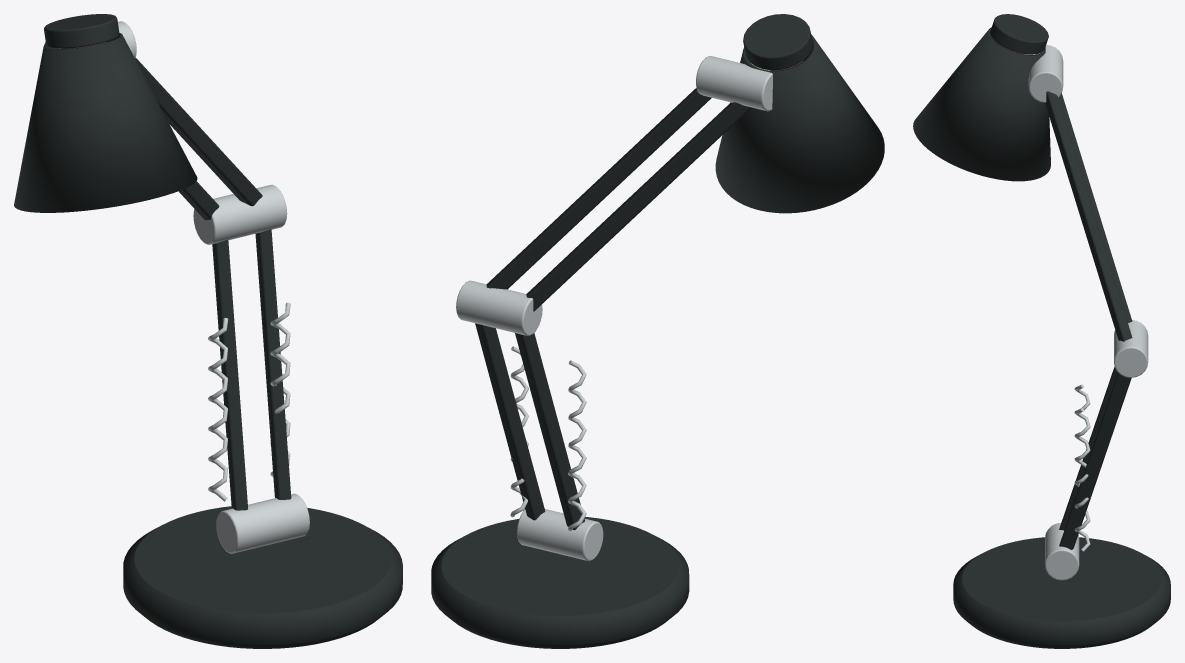
The model's file is desk-lamp.glb.
3 renders of one model, left to right at view 1: azimuth 30°, elevation 25°; view 2: azimuth 150°, elevation 25°; view 3: azimuth 270°, elevation 25°, orthographic. The views are drawn at different scales.
Visible parts, largest first — view 1: Lamp | weighted circular base, Task head | open metal shade, Task lamp | parallel link.001, Task lamp | parallel link, Task lamp | pivot, Task lamp | pivot.001, Task lamp | parallel link.003, Task head | top cap, Task lamp | tension spring, Task lamp | tension spring.001, Task lamp | parallel link.002; view 2: Lamp | weighted circular base, Task head | open metal shade, Task lamp | parallel link.002, Task lamp | parallel link.003, Task lamp | parallel link.001, Task lamp | parallel link, Task lamp | pivot.001, Task head | top cap, Task lamp | pivot.002, Task lamp | pivot, Task lamp | tension spring, Task lamp | tension spring.001; view 3: Lamp | weighted circular base, Task head | open metal shade, Task lamp | parallel link.003, Task lamp | parallel link.001, Task head | top cap, Task lamp | pivot.001, Task lamp | pivot.002, Task lamp | pivot, Task lamp | parallel link.002, Task lamp | parallel link, Task lamp | tension spring.001.
Part boxes in pixels (bbox=[...]): Lamp | weighted circular base: bbox=[123, 506, 402, 648]; Task head | open metal shade: bbox=[14, 33, 197, 212]; Task lamp | parallel link.001: bbox=[255, 229, 291, 499]; Task lamp | parallel link: bbox=[212, 239, 247, 510]; Task lamp | pivot: bbox=[216, 493, 309, 553]; Task lamp | pivot.001: bbox=[193, 184, 287, 244]; Task lamp | parallel link.003: bbox=[135, 58, 262, 206]; Task head | top cap: bbox=[44, 14, 119, 48]; Task lamp | tension spring: bbox=[208, 318, 228, 501]; Task lamp | tension spring.001: bbox=[270, 302, 290, 476]; Task lamp | parallel link.002: bbox=[178, 181, 219, 220]; Lamp | weighted circular base: bbox=[431, 517, 689, 648]; Task head | open metal shade: bbox=[715, 34, 884, 213]; Task lamp | parallel link.002: bbox=[526, 102, 751, 311]; Task lamp | parallel link.003: bbox=[486, 88, 711, 289]; Task lamp | parallel link.001: bbox=[475, 323, 545, 520]; Task lamp | parallel link: bbox=[515, 333, 584, 530]; Task lamp | pivot.001: bbox=[456, 280, 542, 335]; Task head | top cap: bbox=[743, 14, 812, 70]; Task lamp | pivot.002: bbox=[696, 56, 772, 111]; Task lamp | pivot: bbox=[517, 509, 603, 561]; Task lamp | tension spring: bbox=[568, 360, 586, 531]; Task lamp | tension spring.001: bbox=[510, 346, 528, 517]; Lamp | weighted circular base: bbox=[953, 537, 1170, 648]; Task head | open metal shade: bbox=[913, 27, 1050, 181]; Task lamp | parallel link.003: bbox=[1045, 91, 1132, 341]; Task lamp | parallel link.001: bbox=[1059, 372, 1131, 549]; Task head | top cap: bbox=[990, 14, 1048, 54]; Task lamp | pivot.001: bbox=[1114, 320, 1148, 377]; Task lamp | pivot.002: bbox=[1028, 45, 1063, 102]; Task lamp | pivot: bbox=[1045, 523, 1079, 580]; Task lamp | parallel link.002: bbox=[1058, 93, 1132, 322]; Task lamp | parallel link: bbox=[1059, 367, 1117, 530]; Task lamp | tension spring.001: bbox=[1074, 408, 1090, 551].
Bounding box in the file's own units: 0.342 × 0.5188 × 0.2394.
4 materials, 4 textured.
